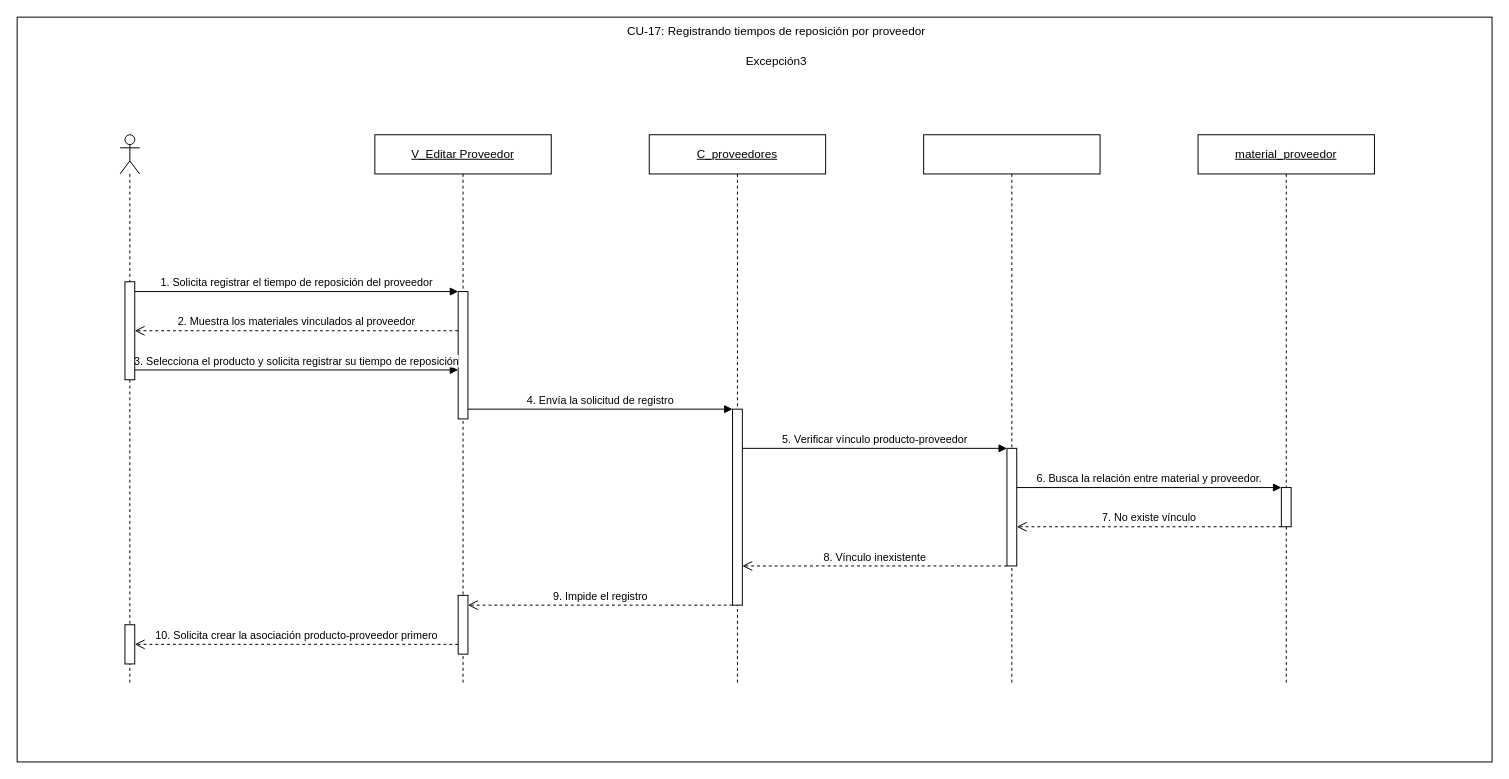
This 1509x779 diagram has some shape labels left out. Here are the shapes that lost their labels. From the top down, the box of each, then its label:
(119, 134, 140, 684): G erencia
(923, 134, 1100, 684): C_Postgre
